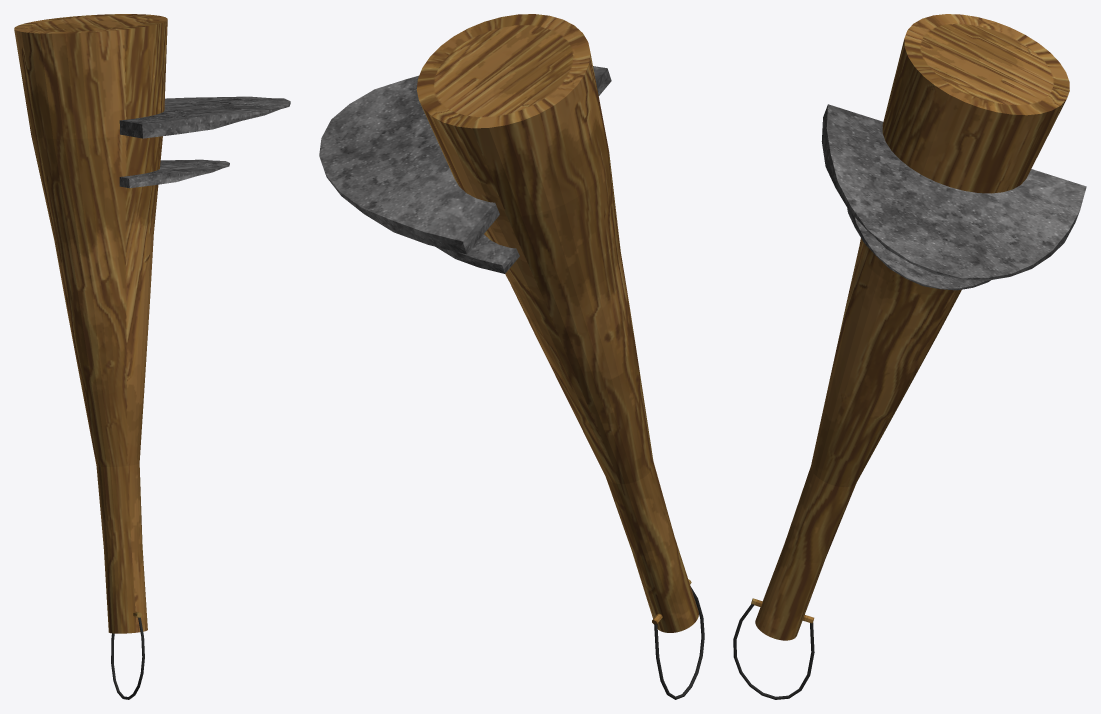
The model's file is Lakom.glb.
3 views of the same model, side by side, from view 1: azimuth 30°, elevation 25°; view 2: azimuth 150°, elevation 25°; view 3: azimuth 270°, elevation 25° (orthographic). The views are drawn at different scales.
Visible parts, largest first — view 1: Lakom.004; view 2: Lakom.004; view 3: Lakom.004.
Part boxes in pixels (x1=…): Lakom.004: x1=14, y1=14, x2=290, y2=699; Lakom.004: x1=319, y1=14, x2=704, y2=699; Lakom.004: x1=733, y1=14, x2=1086, y2=699.
Bounding box in the file's own units: 1.9 × 4.59 × 2.12.
1 material, 1 textured.
